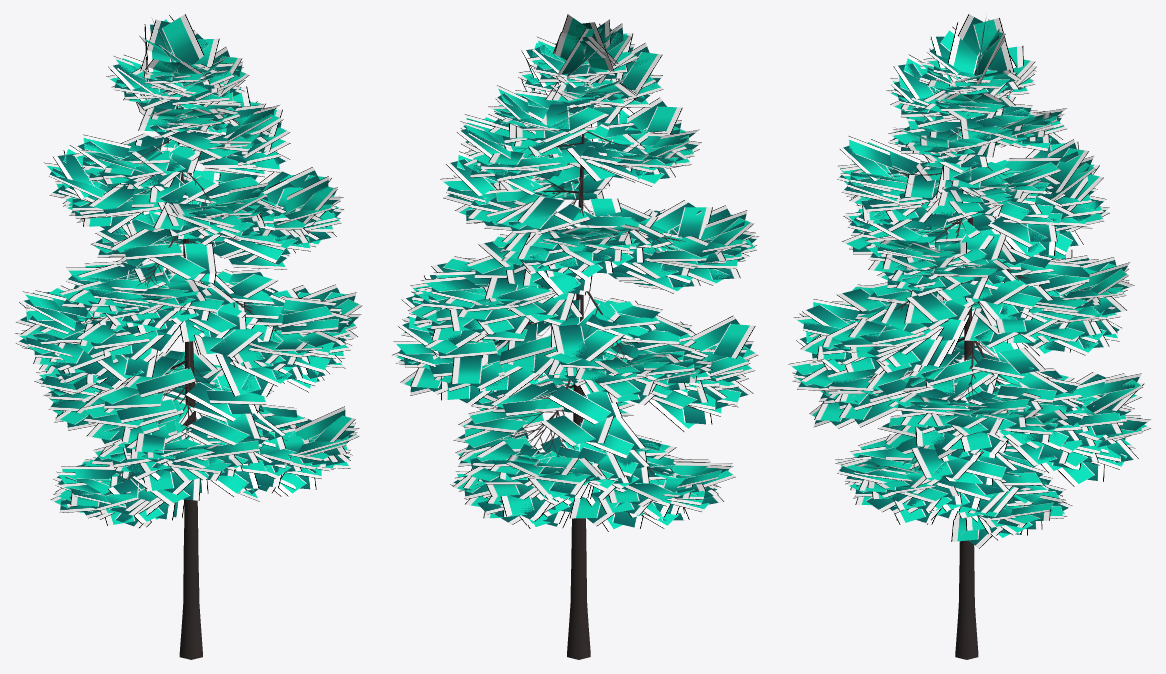
File: PineTree_LOD0.fbx
3 views of the same model, side by side, from view 1: azimuth 30°, elevation 25°; view 2: azimuth 150°, elevation 25°; view 3: azimuth 270°, elevation 25° (orthographic). The views are drawn at different scales.
Visible parts, largest first — view 1: leaves, PineTree_LOD0; view 2: leaves, PineTree_LOD0; view 3: leaves, PineTree_LOD0.
Boxes of the visible parts, x1,y1,x2,y2 form: leaves: (15, 14, 362, 528); PineTree_LOD0: (58, 105, 313, 659); leaves: (392, 14, 758, 531); PineTree_LOD0: (468, 63, 711, 659); leaves: (788, 14, 1150, 548); PineTree_LOD0: (848, 58, 1100, 659).
Size of what is drawn, in the model's own units: 2510 by 4889 by 2565.
